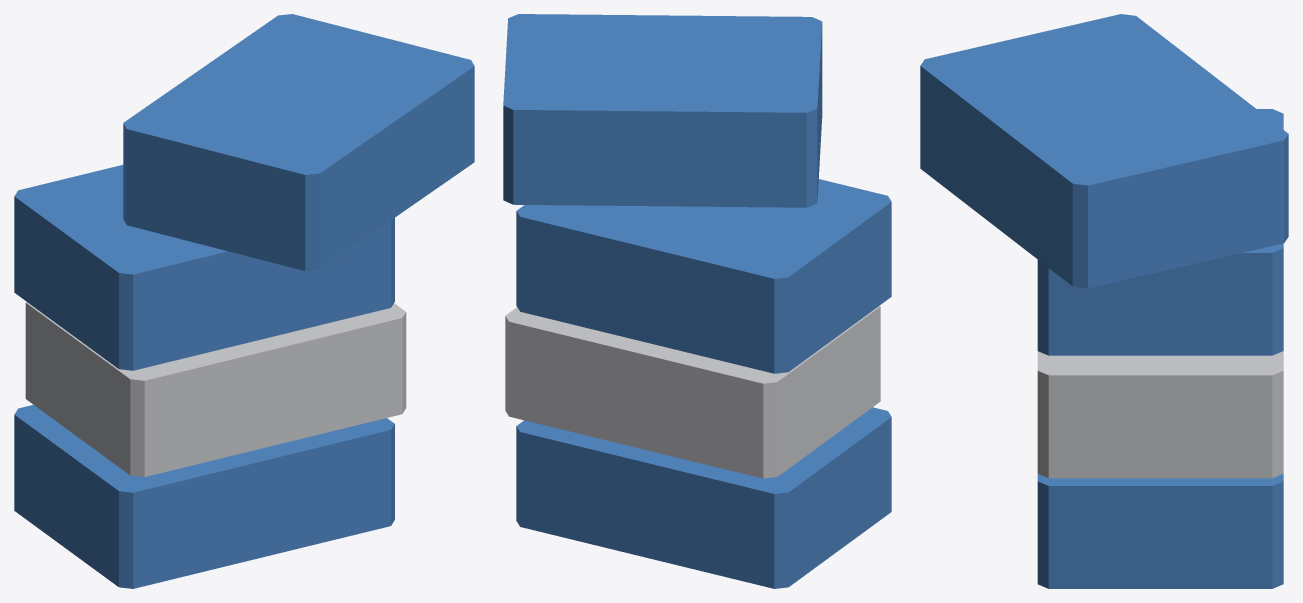
The model's file is crate_fish.glb.
3 renders of one model, left to right at view 1: azimuth 30°, elevation 25°; view 2: azimuth 150°, elevation 25°; view 3: azimuth 270°, elevation 25°, orthographic. The views are drawn at different scales.
Parts seen in each view (by area): view 1: crate_fish; view 2: crate_fish; view 3: crate_fish.
Part boxes in pixels (x1,y1,x2,y2): crate_fish: [14, 14, 474, 588]; crate_fish: [503, 14, 891, 588]; crate_fish: [920, 14, 1288, 588].
Bounding box in the file's own units: 1.63 × 1.78 × 1.31.
